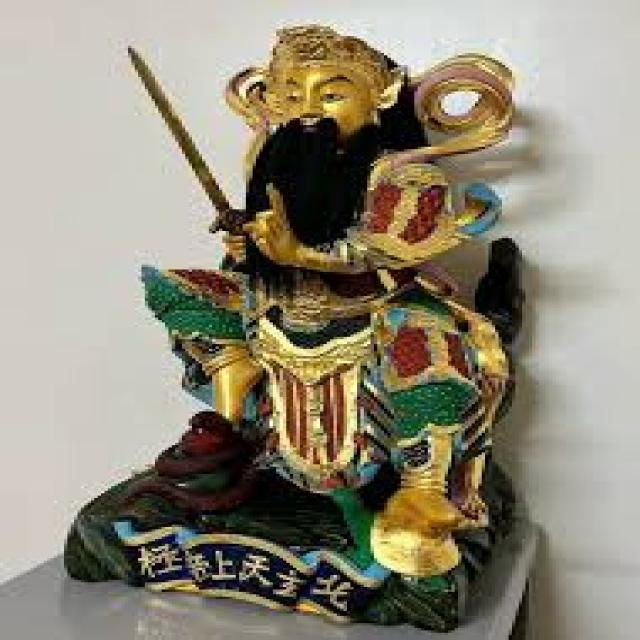Xuan wu: (140, 0, 504, 549)
